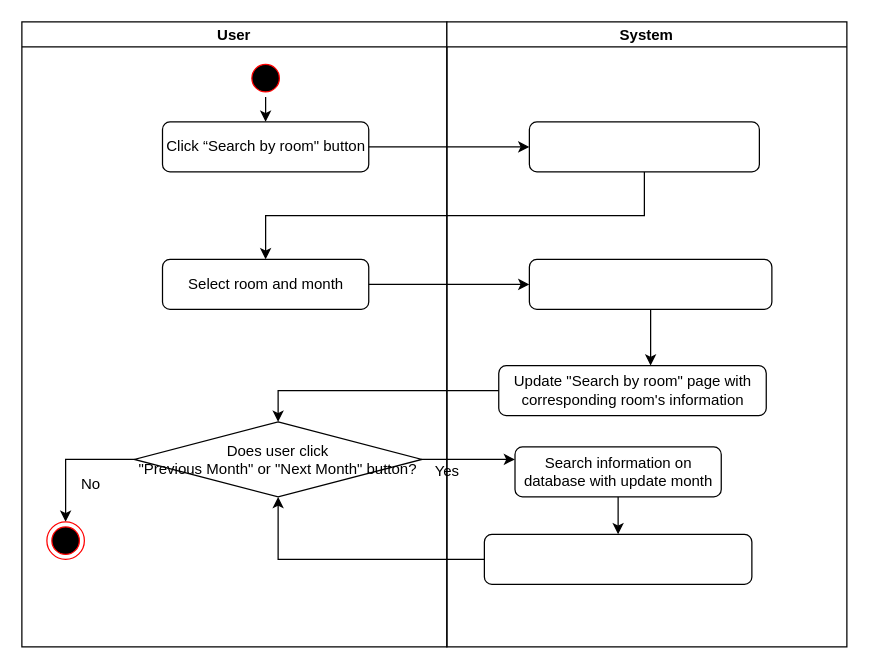
This 869x669 diagram has some shape labels left out. The centre of each missing label's shape, as x and y in pixels:
Display "search by room" page: pixel 643 146
Search information on database with selected room and month: pixel 650 283
Update "Search by room" page with corresponding rooms' information: pixel 617 558
